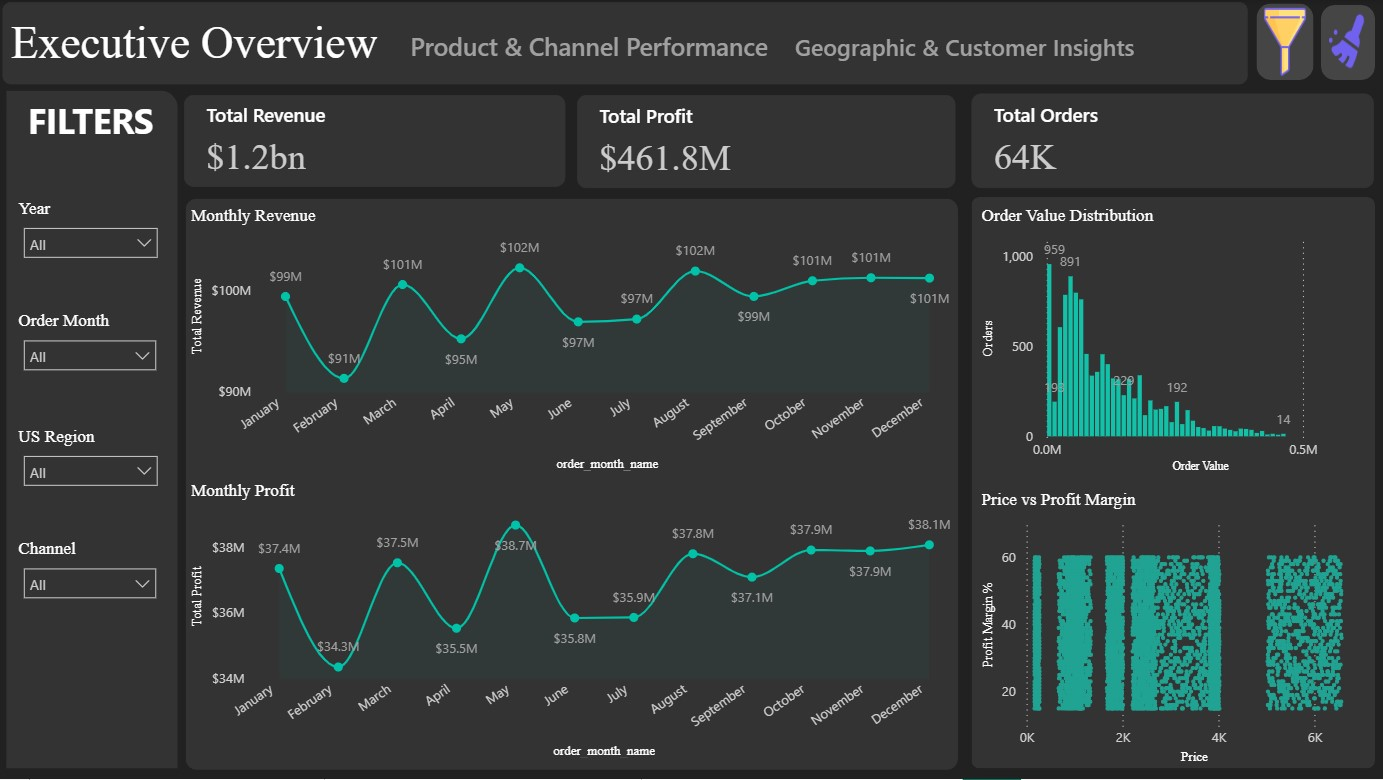

What the dashboard file says about the page in this screenshot:
{"tool":"powerbi","page":{"name":"Executive Overview & Trends","canvas":[1280,720],"ordinal":0},"visuals":[{"type":"shape","box":[6.1,82.7,162.4,628.1],"z":0},{"type":"cardVisual","fields":{"Data":["Measures_.Total Revenue"]},"box":[171.6,84.2,209,88],"z":1000,"group":"g2"},{"type":"lineChart","title":"Monthly Revenue","fields":{"Category":["Sales_data.order_month_name"],"Y":["Measures_.Total Revenue"]},"box":[173.1,182.3,537.7,260.4],"z":1000},{"type":"cardVisual","fields":{"Data":["Measures_.Total Profit"]},"box":[393,84.2,209.9,85.8],"z":2000,"group":"g2"},{"type":"lineChart","title":"Monthly Profit ","fields":{"Category":["Sales_data.order_month_name"],"Y":["Measures_.Total Profit"]},"box":[723.1,182.3,548.4,260.4],"z":2000},{"type":"cardVisual","fields":{"Data":["Measures_.Profit Margin %"]},"box":[841,82.7,209,88],"z":3000,"group":"g2"},{"type":"scatterChart","title":"Price vs Profit Margin","fields":{"X":["Sales_data.unit_price"],"Y":["Sales_data.profit_margin_pct"]},"box":[723.1,453.4,548.4,257.4],"z":3000},{"type":"cardVisual","fields":{"Data":["Measures_.Total Orders"]},"box":[618,82.7,209.9,87.3],"z":4000,"group":"g2"},{"type":"columnChart","title":"Order Value Distribution","fields":{"Category":["Order_Value_Distribution.OrderValue (bins)"],"Y":["CountNonNull(Order_Value_Distribution.order_number)"]},"box":[171.6,453.4,539.2,257.4],"z":4000},{"type":"actionButton","box":[1220.9,7.7,50.6,65.9],"z":5000},{"type":"cardVisual","fields":{"Data":["Measures_.Revenue per order"]},"box":[1063.2,82.7,208.3,87.3],"z":5000,"group":"g2"},{"type":"actionButton","box":[1161.2,4.6,53.6,67.4],"z":6000},{"type":"group","id":"g1","title":"Group 1","box":[16.9,182.3,137.9,386],"z":7000},{"type":"textbox","box":[16.9,84.3,137.9,72],"z":8000},{"type":"group","id":"g2","title":"Group 2","box":[171.6,82.7,1099.9,89.5],"z":9000},{"type":"group","id":"g3","title":"Group 3","box":[7.1,3,1147.3,76.7],"z":10000},{"type":"actionButton","box":[457.5,3,349.3,76.6],"z":10000,"group":"g3"},{"type":"actionButton","box":[7.1,3.1,444.3,76.6],"z":11000,"group":"g3"},{"type":"actionButton","box":[812.8,3,341.6,76.6],"z":12000,"group":"g3"},{"type":"slicer","title":"Year","fields":{"Values":["Sales_data.year"]},"box":[16.9,182.3,137.9,68.9],"z":21500,"group":"g1"},{"type":"slicer","title":"Channel","fields":{"Values":["Sales_data.channel"]},"box":[16.9,496.3,136.4,72],"z":22000,"group":"g1"},{"type":"slicer","title":"Order Month","fields":{"Values":["Sales_data.order_month_name"]},"box":[16.9,286.5,136.4,72],"z":22250,"group":"g1"},{"type":"slicer","title":"US Region","fields":{"Values":["Sales_data.us_region"]},"box":[16.9,392.2,137.9,72],"z":22500,"group":"g1"}]}

Visuals, with their boxes in screenshot pixels (x1, y1, x2, y2), scaled from the page's 1280x720 canvas onto the 1383x780 screenshot:
shape: (7, 90, 182, 770)
cardVisual - Measures_.Total Revenue: (185, 91, 411, 187)
"Monthly Revenue" lineChart: (187, 197, 768, 480)
cardVisual - Measures_.Total Profit: (425, 91, 651, 184)
"Monthly Profit " lineChart: (781, 197, 1374, 480)
cardVisual - Measures_.Profit Margin %: (909, 90, 1134, 185)
"Price vs Profit Margin" scatterChart: (781, 491, 1374, 770)
cardVisual - Measures_.Total Orders: (668, 90, 895, 184)
"Order Value Distribution" columnChart: (185, 491, 768, 770)
actionButton: (1319, 8, 1374, 80)
cardVisual - Measures_.Revenue per order: (1149, 90, 1374, 184)
actionButton: (1255, 5, 1313, 78)
"Group 1" group: (18, 197, 167, 616)
textbox: (18, 91, 167, 169)
"Group 2" group: (185, 90, 1374, 187)
"Group 3" group: (8, 3, 1247, 86)
actionButton: (494, 3, 872, 86)
actionButton: (8, 3, 488, 86)
actionButton: (878, 3, 1247, 86)
"Year" slicer: (18, 197, 167, 272)
"Channel" slicer: (18, 538, 166, 616)
"Order Month" slicer: (18, 310, 166, 388)
"US Region" slicer: (18, 425, 167, 503)
